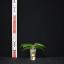leaf: (33, 43, 46, 48), (20, 44, 33, 48), (22, 47, 32, 52), (33, 45, 45, 48), (23, 46, 33, 48)
